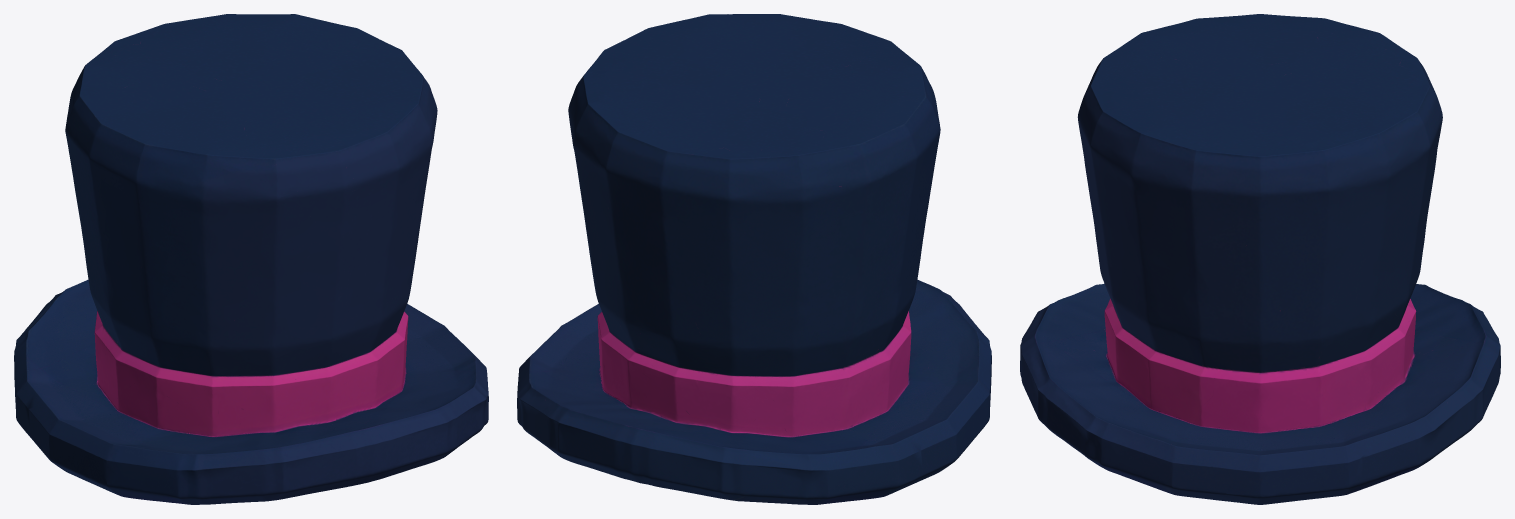
The model's file is snowman_hat.glb.
3 renders of one model, left to right at view 1: azimuth 30°, elevation 25°; view 2: azimuth 150°, elevation 25°; view 3: azimuth 270°, elevation 25°, orthographic. The views are drawn at different scales.
Bounding box in the file's own units: 1.8 × 1.48 × 1.9.
1 material, 1 textured.
